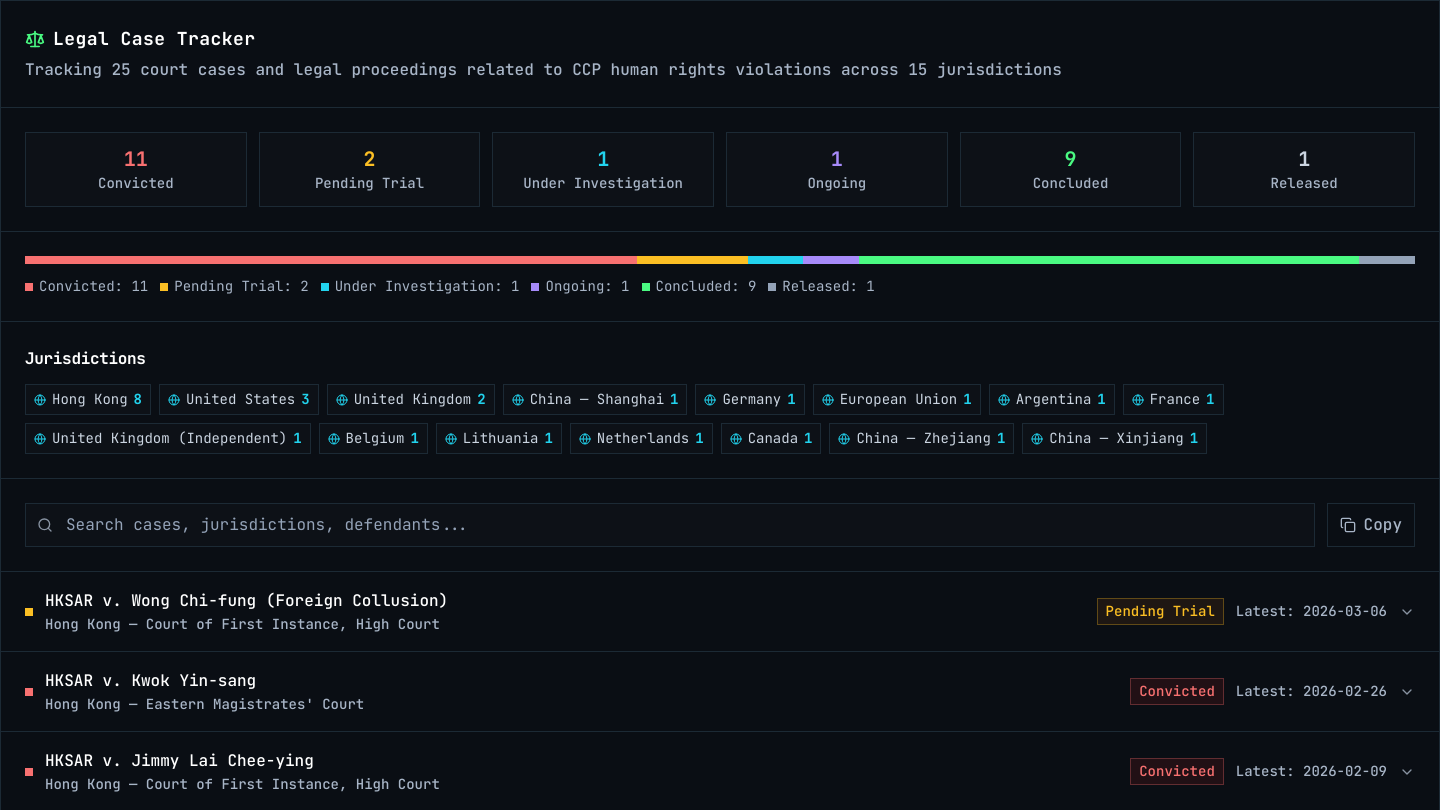
Test: LegalCaseTracker › shows empty state when search has no results
This screenshot has width=1440, height=810.
Type "zzzznonexistent99999" into the field named "Search legal cases".
click(670, 525); type("zzzznonexistent99999")  # box top-left (25, 503), bottom-right (1315, 547)
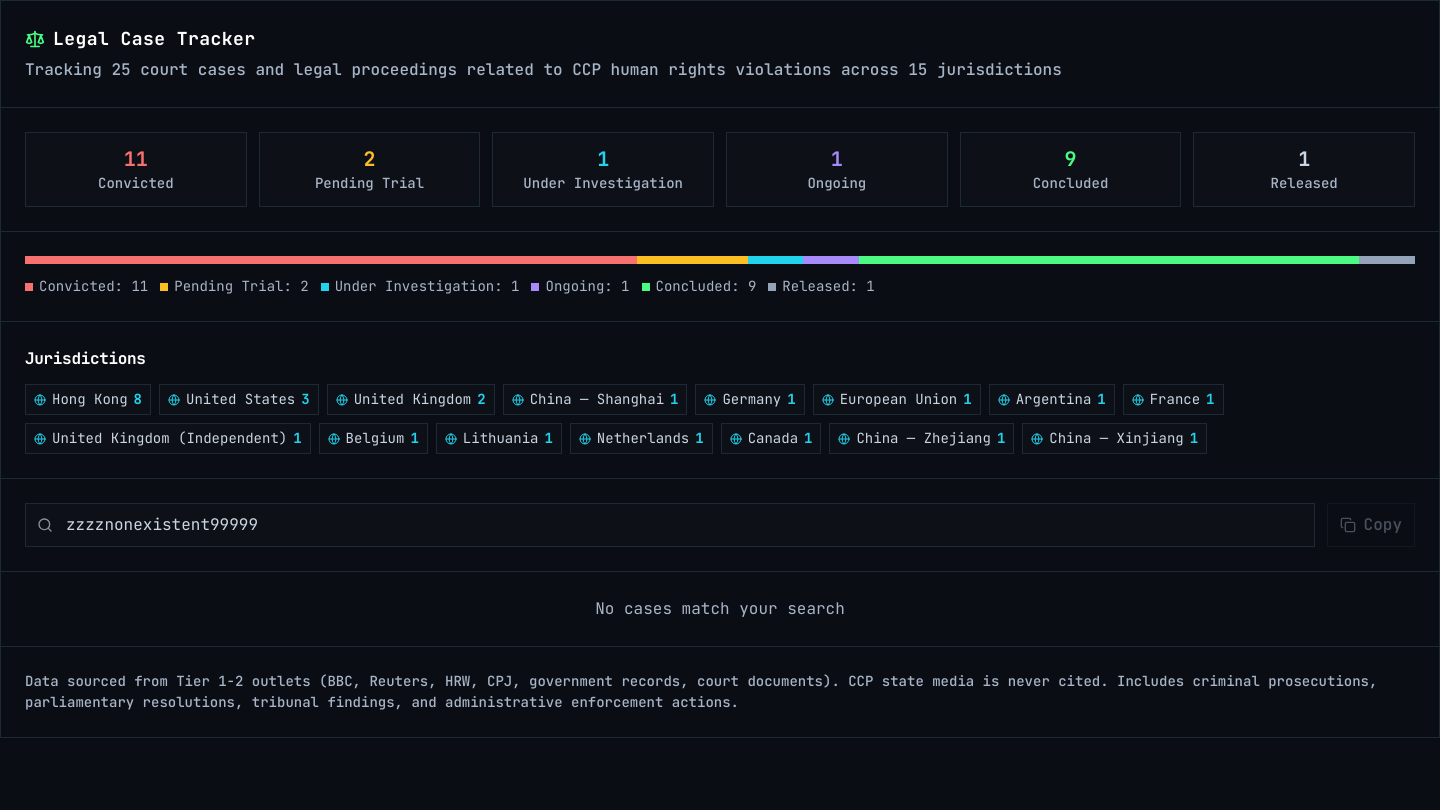
Check: the text "No cases match your search" is shown, box top-left (595, 598), bottom-right (845, 619)
